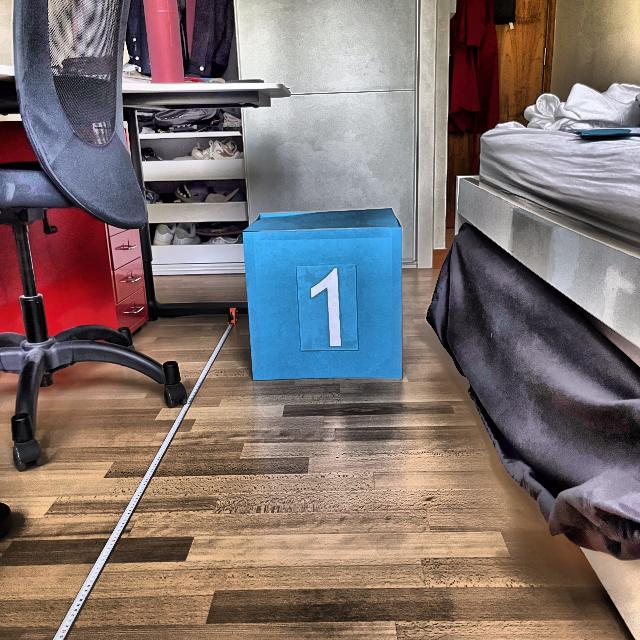blue box: (242, 209, 406, 382)
one: (307, 266, 345, 349)
